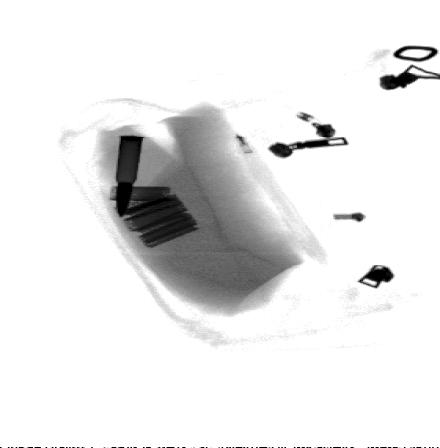Bullet: (113, 134, 145, 222)
